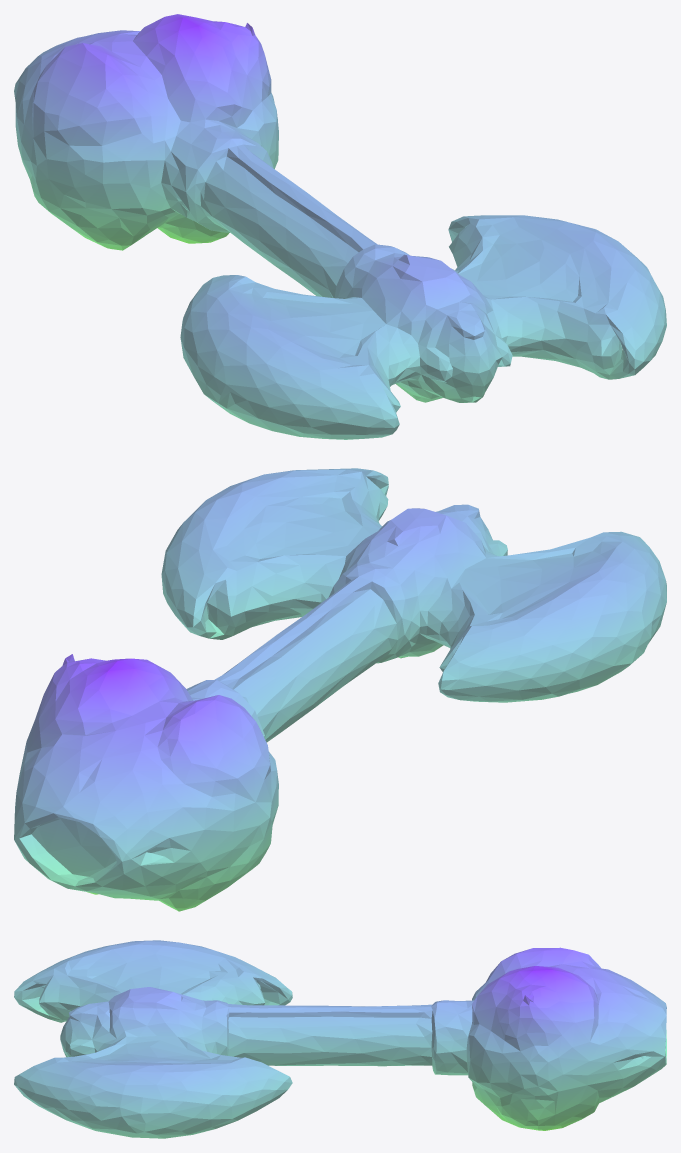
File: 189_cyb_laser_gradient_fish_scales_2956_2026_10_03_1d2fe6.glb
3 views of the same model, one above another, from view 1: azimuth 30°, elevation 25°; view 2: azimuth 150°, elevation 25°; view 3: azimuth 270°, elevation 25° (orthographic). The views are drawn at different scales.
Parts seen in each view (by area): view 1: geometry_0; view 2: geometry_0; view 3: geometry_0.
Part boxes in pixels (x1=…): geometry_0: x1=14, y1=14, x2=666, y2=439; geometry_0: x1=14, y1=468, x2=666, y2=911; geometry_0: x1=14, y1=940, x2=666, y2=1138.
Bounding box in the file's own units: 0.5643 × 0.2651 × 0.993.
